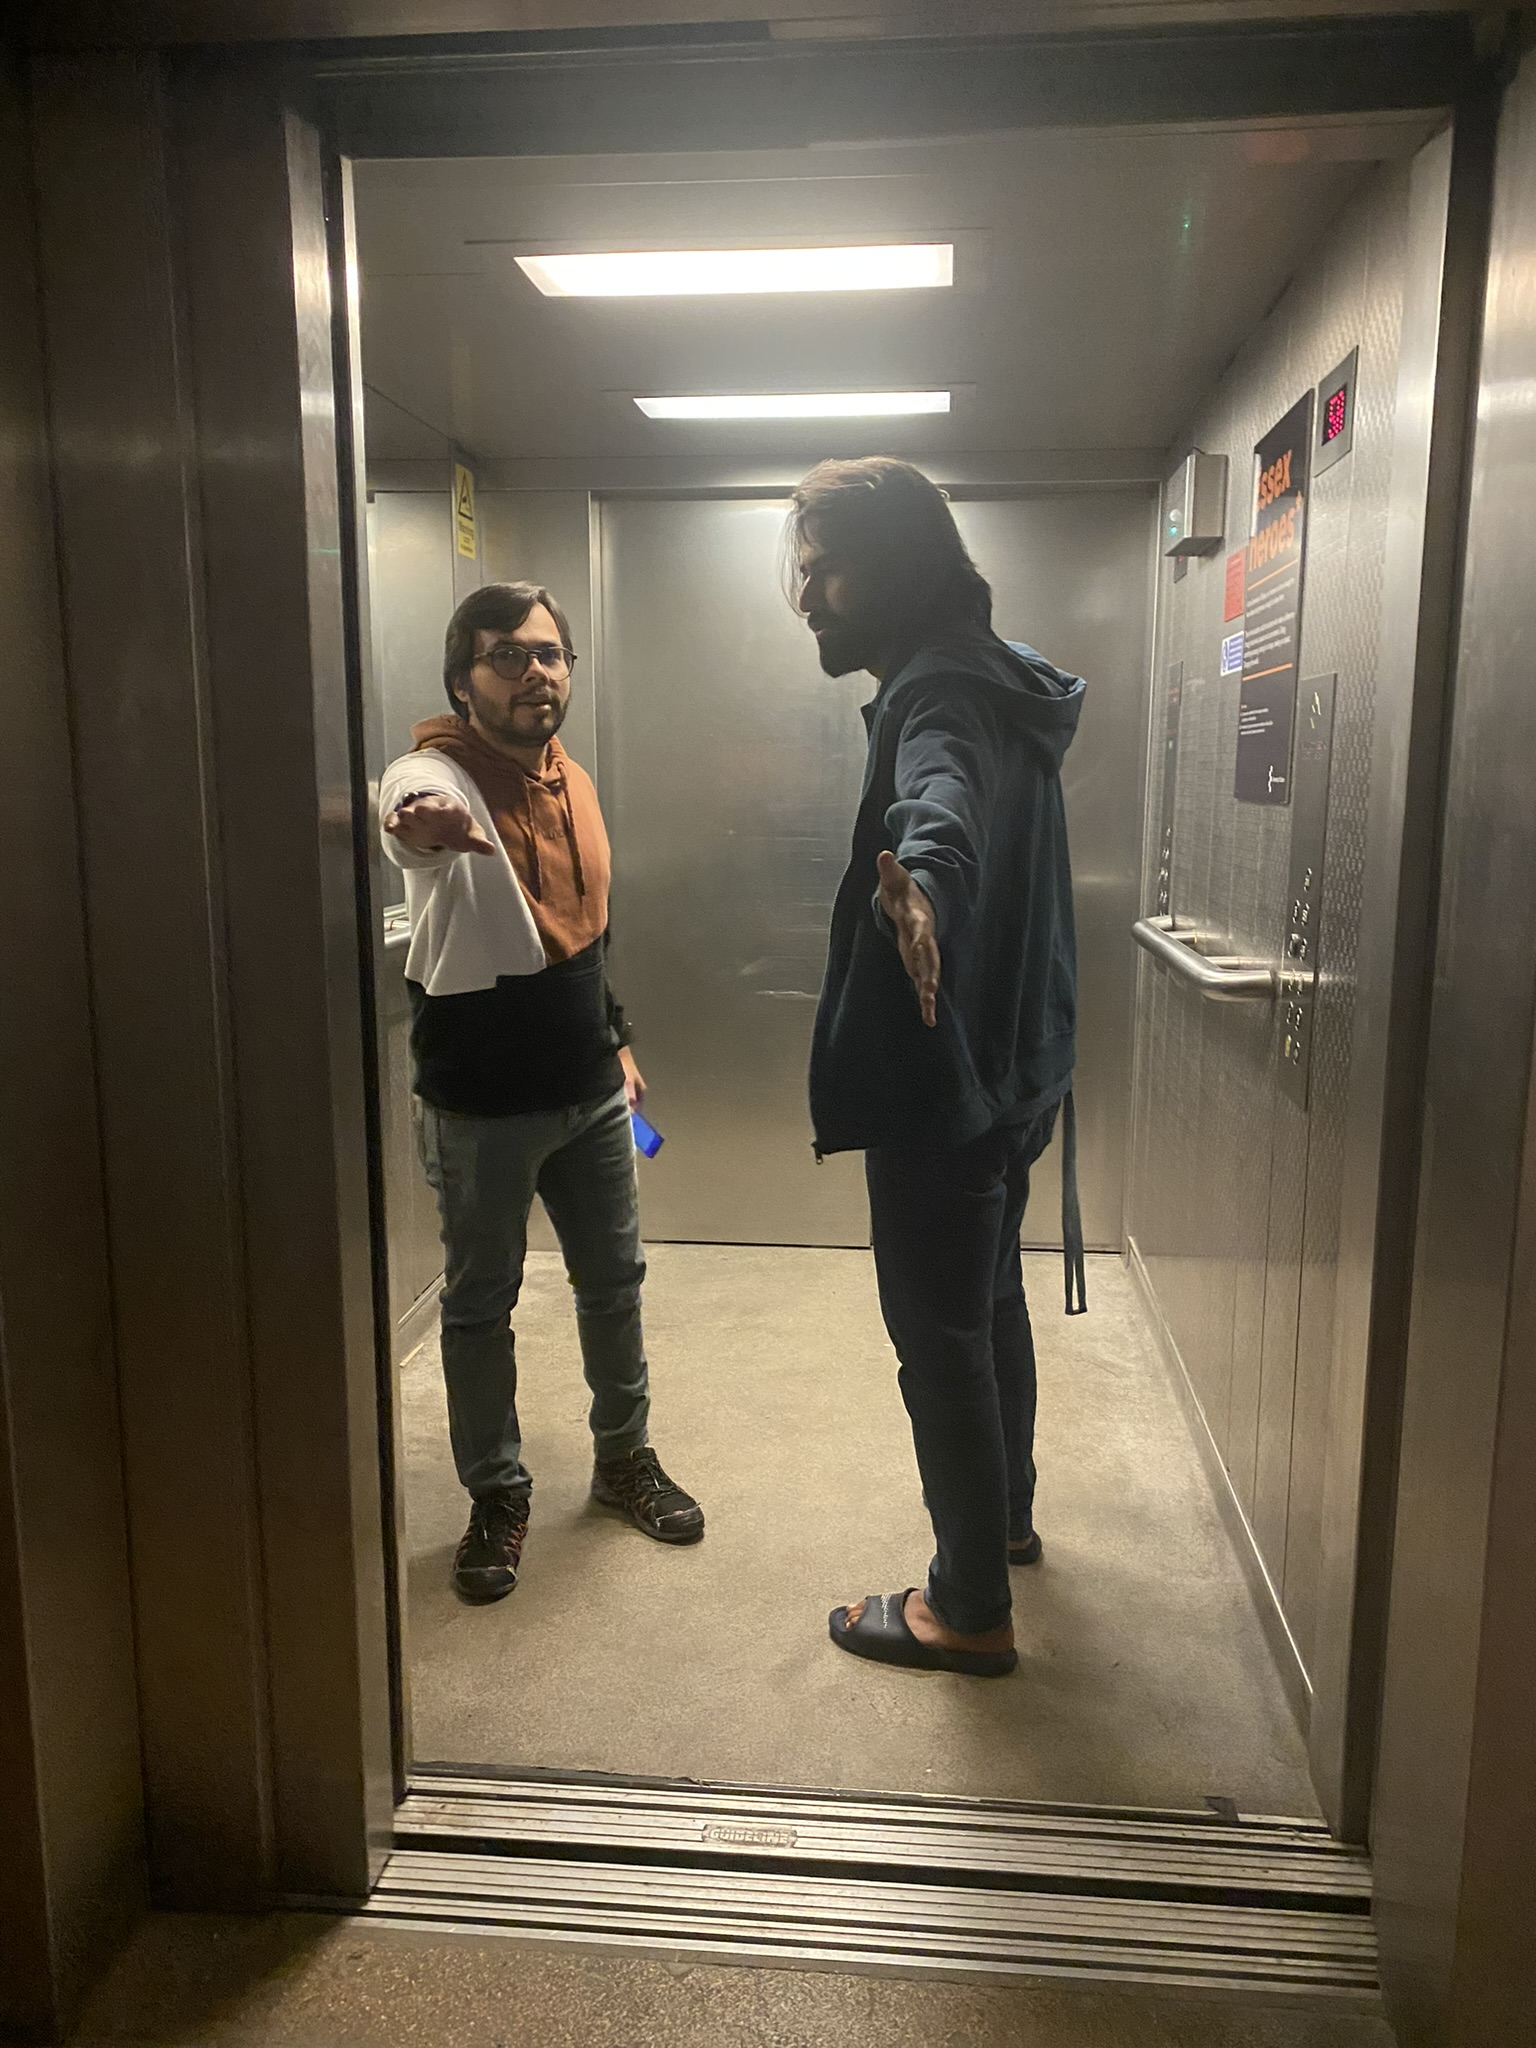lift: (231, 65, 1389, 1956)
